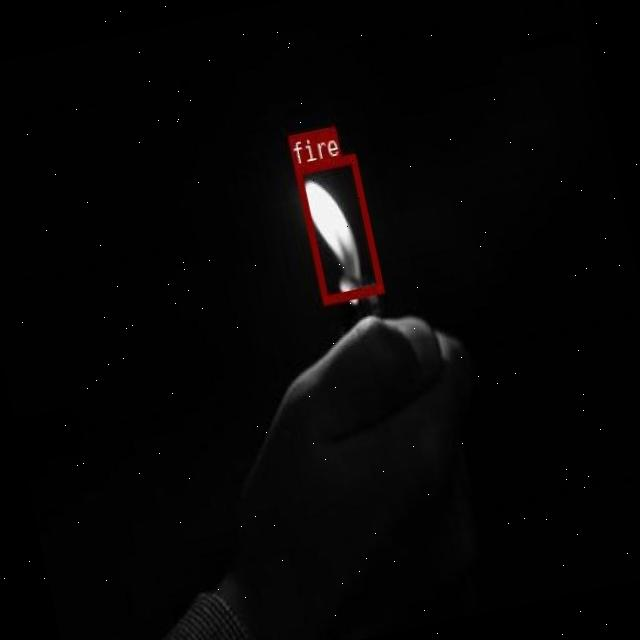fire: (292, 154, 382, 302)
